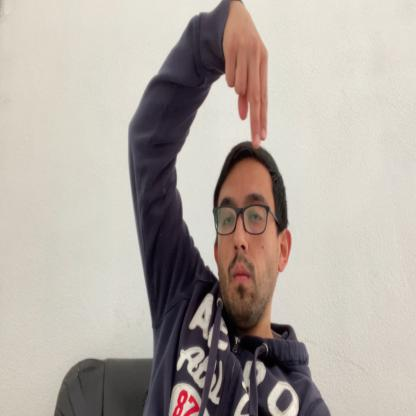N: (224, 3, 270, 149)
